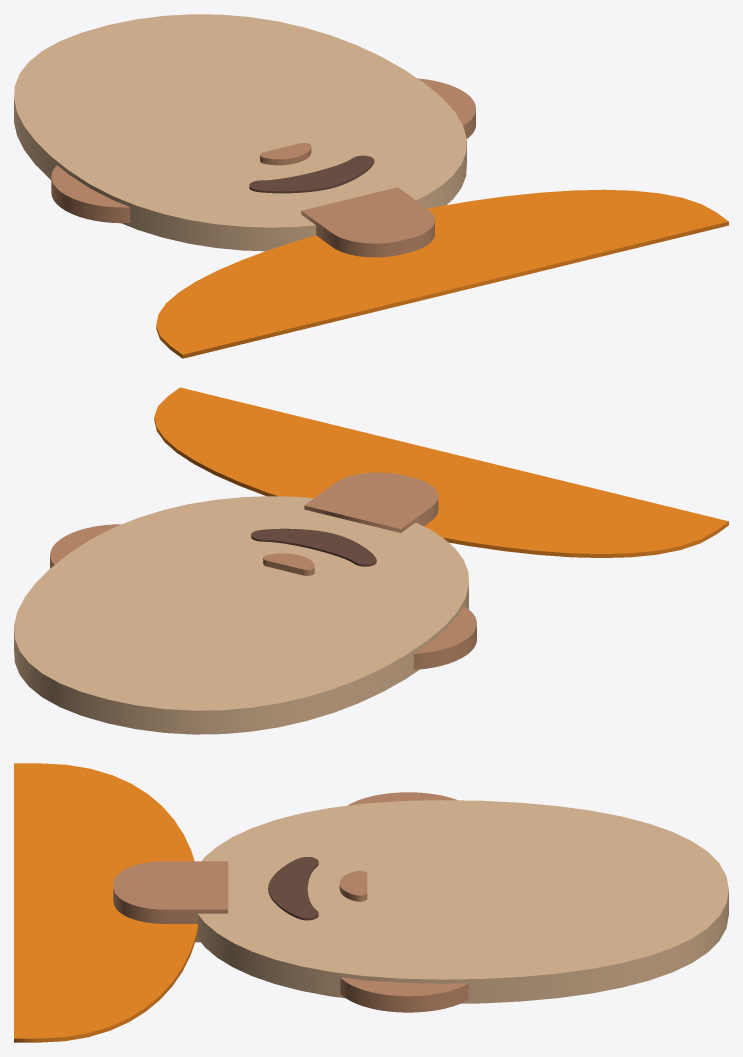
File: emoji_u1f9d1_1f3fc_200d_1f9b2.glb
3 renders of one model, top to bottom at view 1: azimuth 30°, elevation 25°; view 2: azimuth 150°, elevation 25°; view 3: azimuth 270°, elevation 25°, orthographic. The views are drawn at different scales.
Visible parts, largest first — view 1: emoji_u1f9d1_1f3fc_200d_1f9b2; view 2: emoji_u1f9d1_1f3fc_200d_1f9b2; view 3: emoji_u1f9d1_1f3fc_200d_1f9b2.
Boxes of the visible parts, x1,y1,x2,y2 form: emoji_u1f9d1_1f3fc_200d_1f9b2: [14, 14, 728, 358]; emoji_u1f9d1_1f3fc_200d_1f9b2: [14, 387, 728, 734]; emoji_u1f9d1_1f3fc_200d_1f9b2: [14, 763, 728, 1042].
Bounding box in the file's own units: 0.0289 × 0.0018 × 0.0317.
